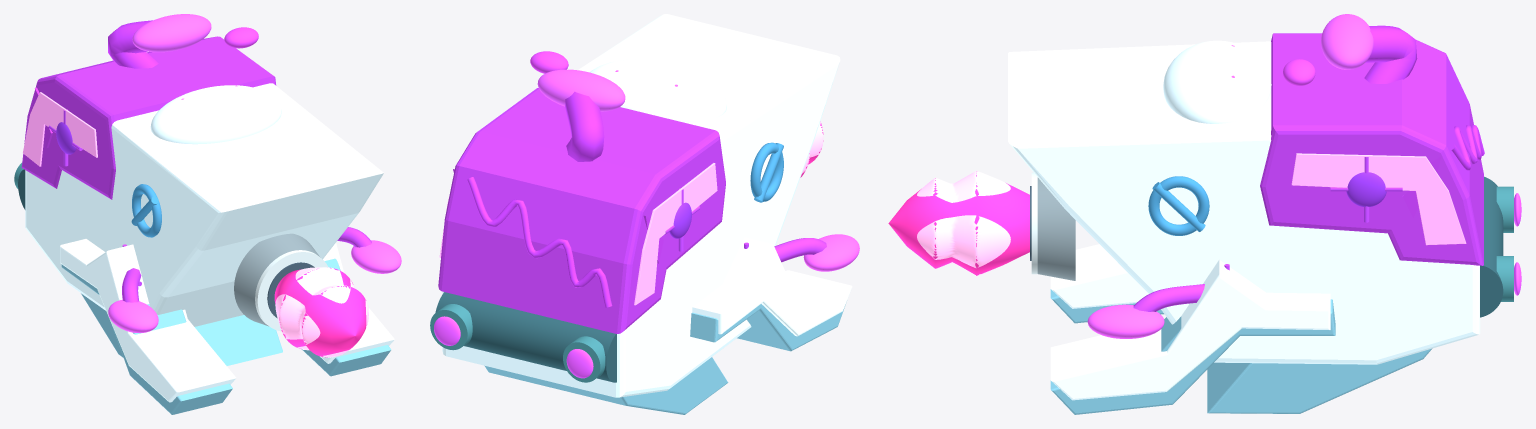
Rendered from ship-06.glb.
The picture shows the model from 3 angles, left to right: view 1: azimuth 30°, elevation 25°; view 2: azimuth 150°, elevation 25°; view 3: azimuth 270°, elevation 25°; orthographic projection. The views are drawn at different scales.
Visible parts, largest first — view 1: 디스커버리 I, engine-flame; view 2: 디스커버리 I, engine-flame; view 3: 디스커버리 I, engine-flame.
Part boxes in pixels (box(x1,y1,x2,y2)): 디스커버리 I: box(14, 14, 401, 414); engine-flame: box(274, 267, 368, 357); 디스커버리 I: box(430, 14, 859, 414); engine-flame: box(800, 121, 823, 177); 디스커버리 I: box(1008, 14, 1521, 414); engine-flame: box(888, 170, 1029, 275).
Bounding box in the file's own units: 20.23 × 20.86 × 33.28.
